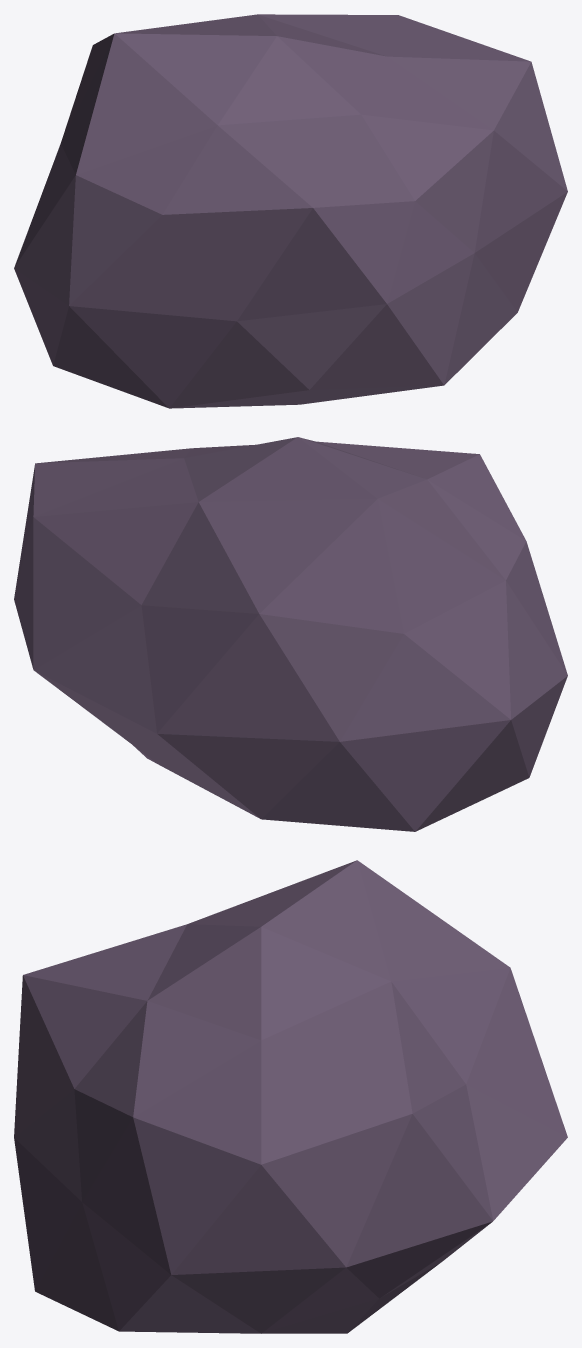
Rendered from rock_0.glb.
3 renders of one model, top to bottom at view 1: azimuth 30°, elevation 25°; view 2: azimuth 150°, elevation 25°; view 3: azimuth 270°, elevation 25°, orthographic. The views are drawn at different scales.
Visible parts, largest first — view 1: rock_0; view 2: rock_0; view 3: rock_0.
Part boxes in pixels (box(x1,y1,x2,y2)): rock_0: box(14, 14, 567, 408); rock_0: box(14, 437, 567, 831); rock_0: box(14, 860, 567, 1333).
Size of the model in its own units: 1.22 by 0.7365 by 1.06.
